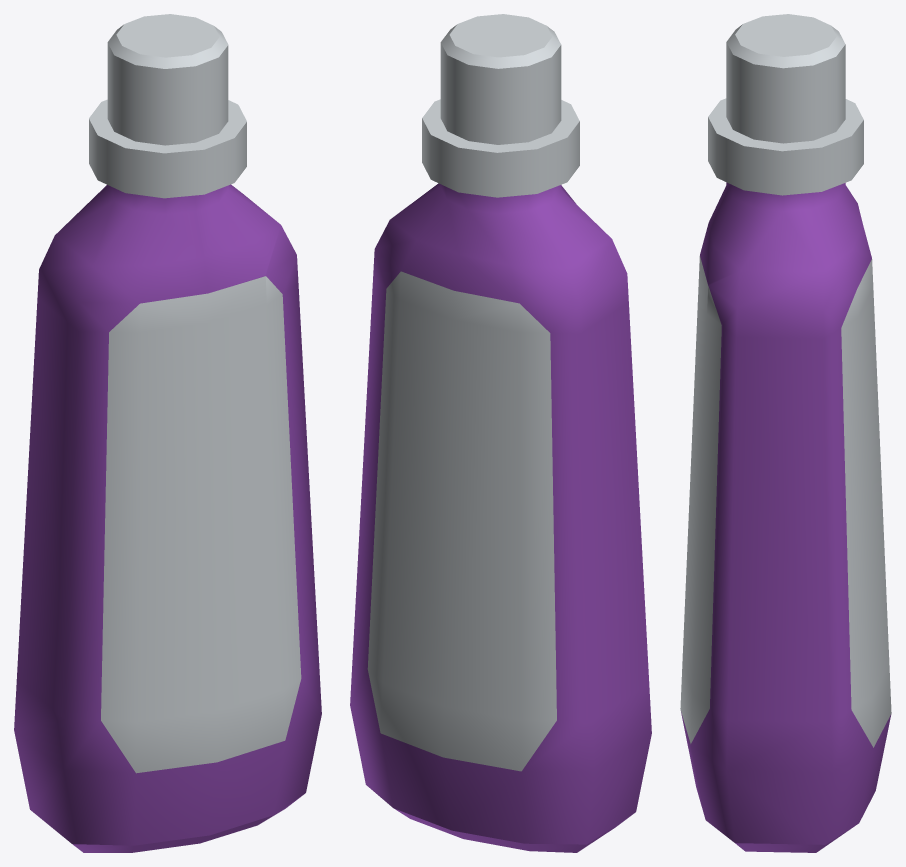
The model's file is bottle_02.fbx.
The picture shows the model from 3 angles, left to right: view 1: azimuth 30°, elevation 25°; view 2: azimuth 150°, elevation 25°; view 3: azimuth 270°, elevation 25°; orthographic projection.
Parts seen in each view (by area): view 1: Base37_1__M_Cnsw_58_FloorSet_Obj_Bottle.001; view 2: Base37_1__M_Cnsw_58_FloorSet_Obj_Bottle.001; view 3: Base37_1__M_Cnsw_58_FloorSet_Obj_Bottle.001.
Boxes of the visible parts, left/top/right/bottom form: Base37_1__M_Cnsw_58_FloorSet_Obj_Bottle.001: left=14, top=14, right=321, bottom=852; Base37_1__M_Cnsw_58_FloorSet_Obj_Bottle.001: left=350, top=14, right=651, bottom=852; Base37_1__M_Cnsw_58_FloorSet_Obj_Bottle.001: left=680, top=14, right=891, bottom=852.
Size of the model in its own units: 3326 by 9697 by 2411.
